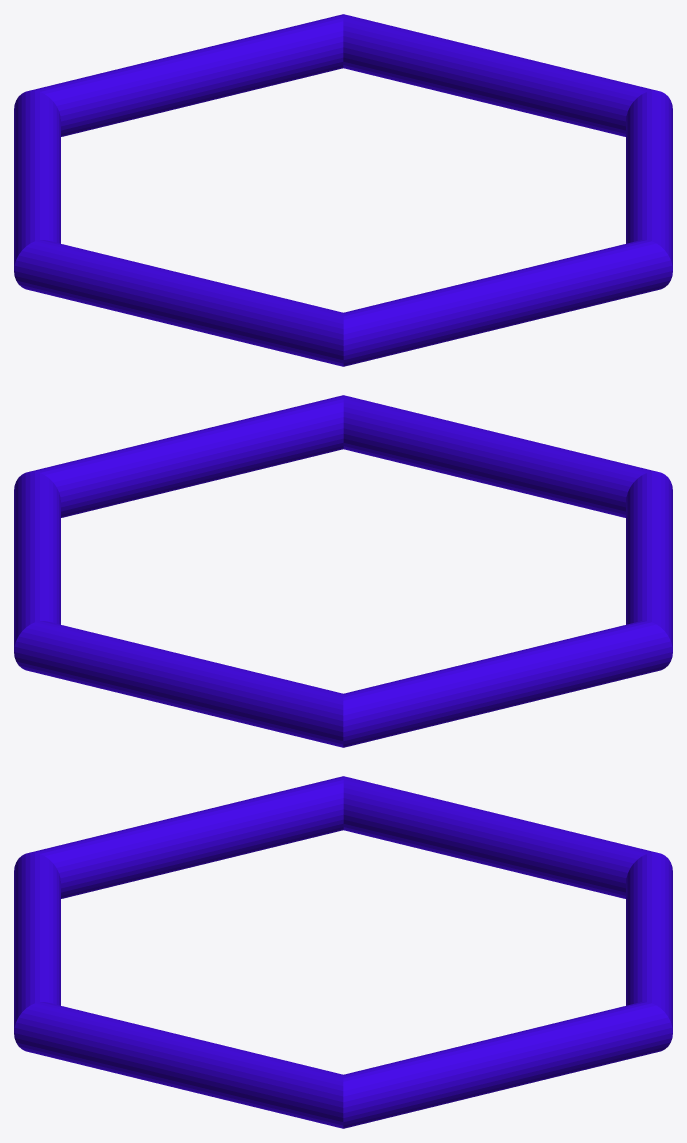
Rendered from ring2.gltf.
The picture shows the model from 3 angles, top to bottom: view 1: azimuth 30°, elevation 25°; view 2: azimuth 150°, elevation 25°; view 3: azimuth 270°, elevation 25°; orthographic projection.
Visible parts, largest first — view 1: Torus.003; view 2: Torus.003; view 3: Torus.003.
Boxes of the visible parts, <box> form: Torus.003: <box>14,14,672,366</box>; Torus.003: <box>14,395,672,747</box>; Torus.003: <box>14,776,672,1128</box>.
Bounding box in the file's own units: 14 × 0.9945 × 12.12.
